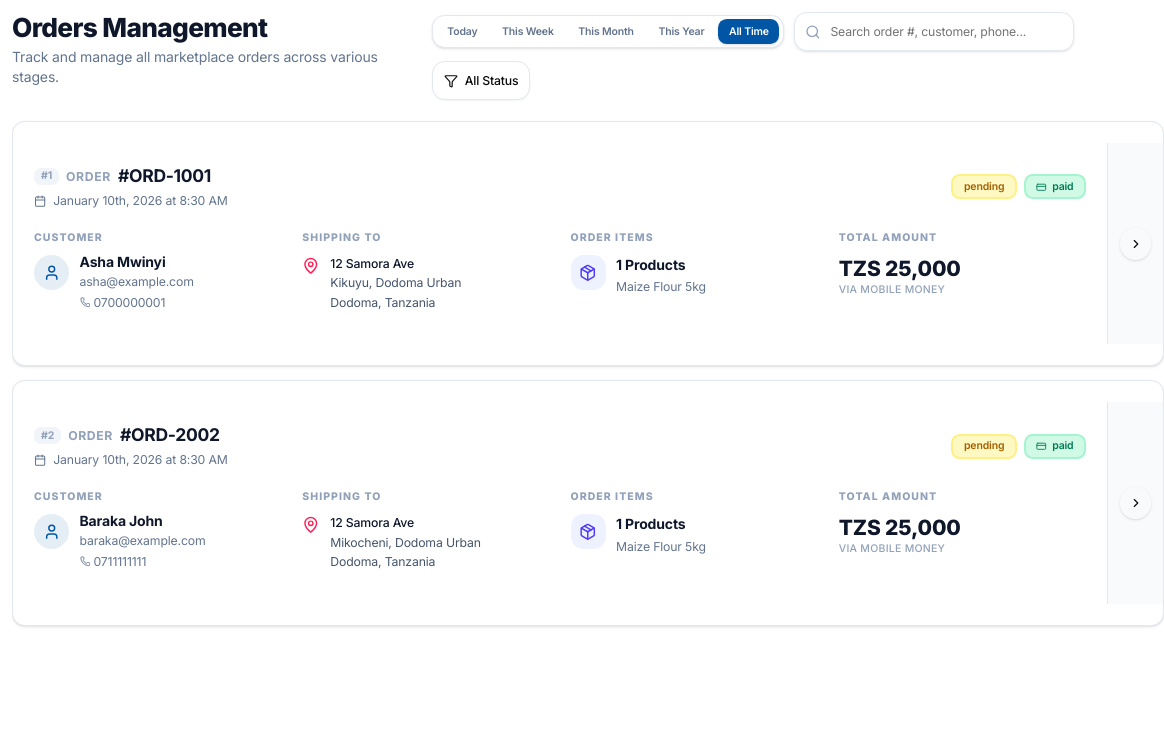
Test: OrdersManagementTab › filters by customer name, email, phone, street or ward
Type "mikocheni" into the field with placeholder "Search order #, customer, phone..." at [934, 32], box [794,12,1074,51]
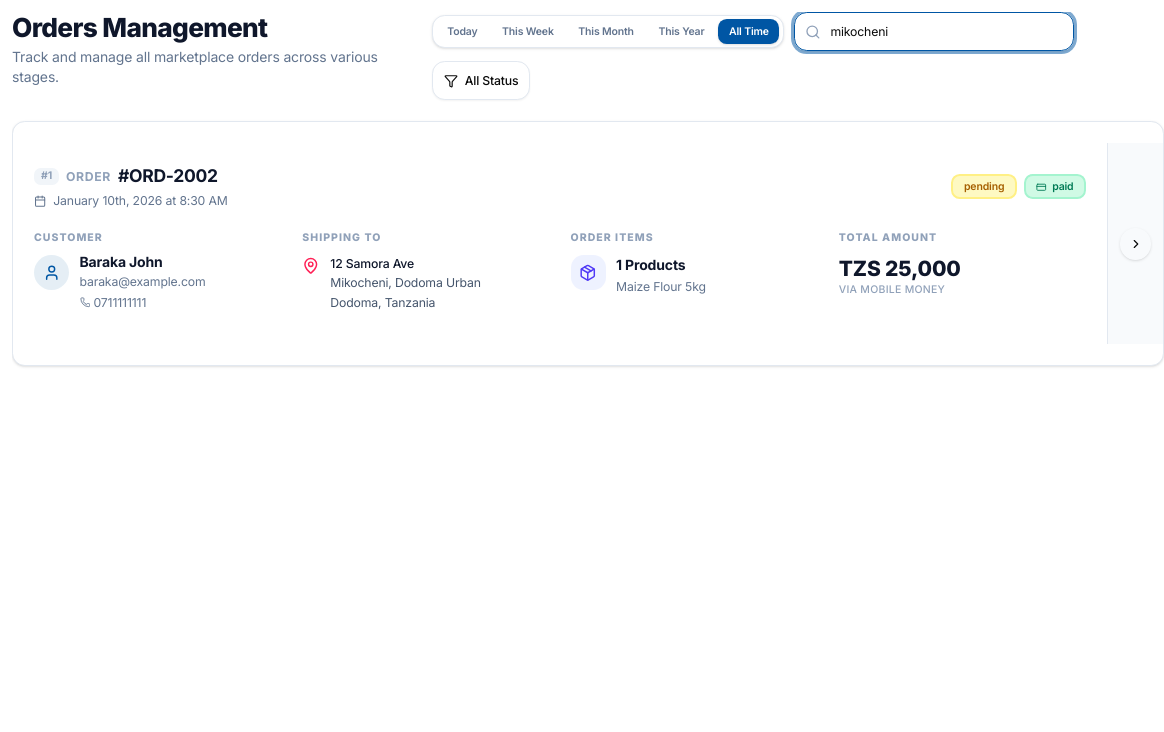
Expected: the heading "#ORD-2002" is shown, [118,164,218,189]
Result: the heading "#ORD-1001" is gone
